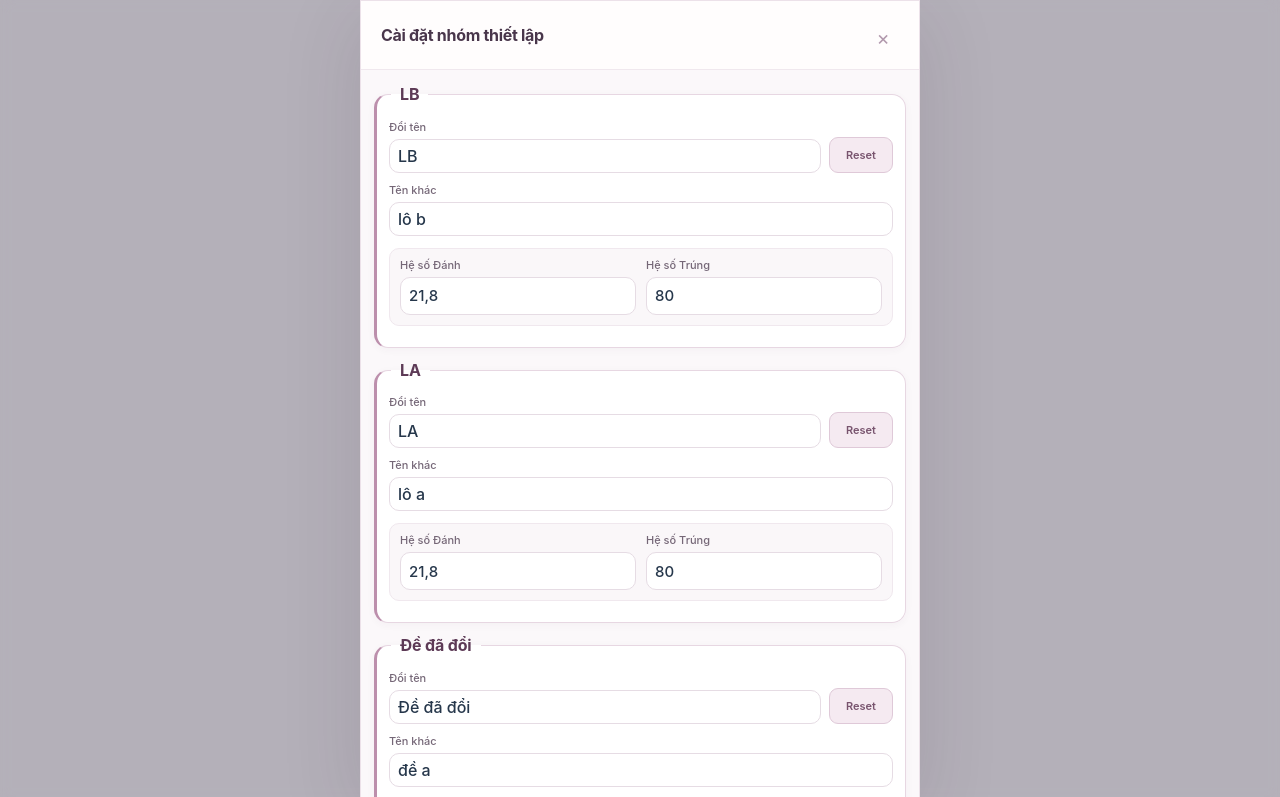
Test: places a compact catalog Reset alongside rename and restores factory name and both coefficients
Click the button with aria-label "Reset Đề đã đổi".
click(861, 706)  # box [829,688,893,724]
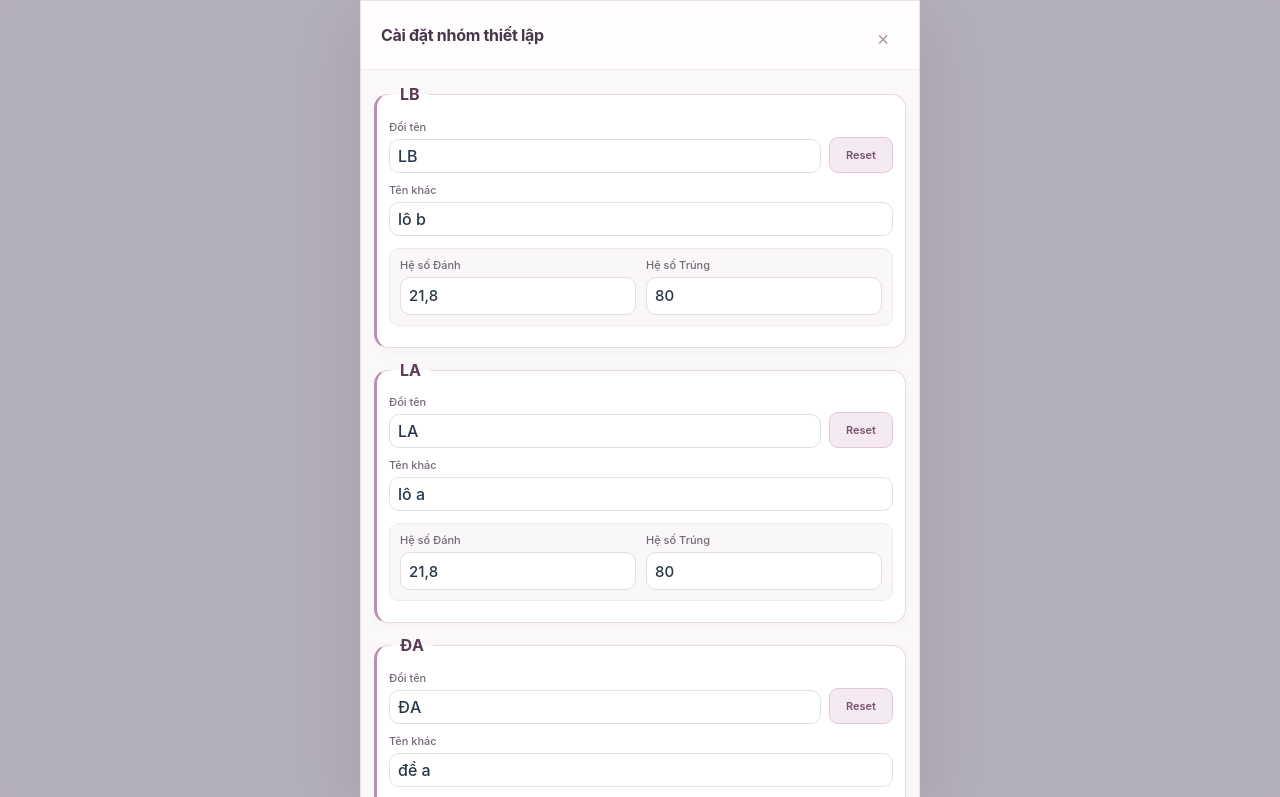
Expected: the field named "Tên thiết lập da" holds "ĐA", [389,690,821,724]
